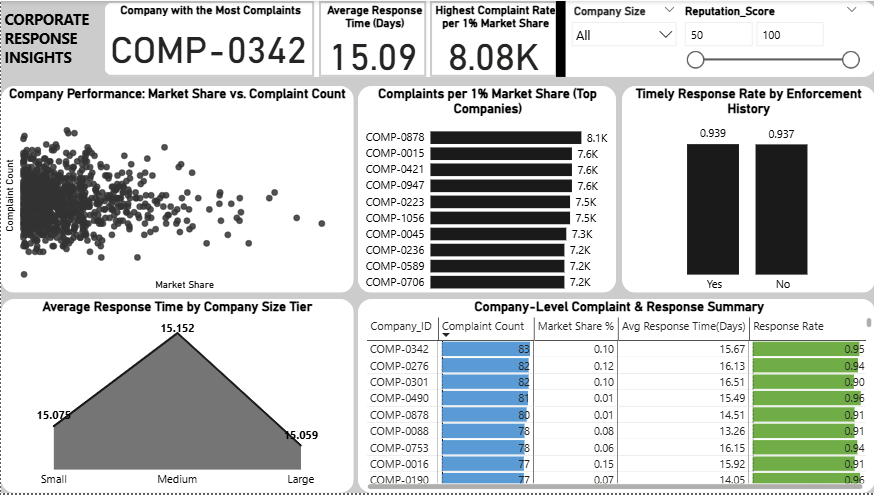

The dashboard page shown, as its layout file describes it:
{"tool":"powerbi","page":{"name":"Company Performance & Accountability","canvas":[1280,720],"ordinal":2},"visuals":[{"type":"shape","box":[0,0,1280,720.6],"z":0},{"type":"shape","box":[0,124.8,516.1,302.5],"z":1000},{"type":"shape","box":[0,435.8,516.1,283.7],"z":2000},{"type":"shape","box":[522.9,124.8,377.7,302.5],"z":3000},{"type":"shape","box":[909.2,124.8,370.8,302.5],"z":4000},{"type":"shape","box":[522.9,435.8,757.1,283.7],"z":5000},{"type":"shape","box":[148.7,0,1131.3,111.1],"z":6000},{"type":"card","title":"Company with the Most Complaints","fields":{"Values":["Company.Company Highest Complaints"]},"box":[148.7,0,309.3,111.1],"z":7000},{"type":"card","title":"Average Response Time (Days)","fields":{"Values":["Company.Avg Response Days"]},"box":[464.8,0,157.2,111.1],"z":8000},{"type":"card","title":"Highest Complaint Rate per 1% Market Share","fields":{"Values":["Company.Highest Complaint Rate"]},"box":[627.2,0,186.3,111.1],"z":9000},{"type":"scatterChart","title":"Company Performance: Market Share vs. Complaint Count","fields":{"X":["Company.Market_Share_Percent"],"Y":["Company.Complaint_Count"]},"box":[0,124.4,516.6,302.9],"z":10000},{"type":"clusteredBarChart","title":"Complaints per 1% Market Share (Top Companies)","fields":{"Y":["Avg(Company.Complaints_per_1pct_Share)"],"Category":["Company.Company_ID_1081"]},"box":[522.9,124.8,379.4,311],"z":11000},{"type":"areaChart","title":"Average Response Time by Company Size Tier","fields":{"Category":["Company.Company_Size_Tier"],"Y":["Avg(Company.Avg_Response_Time_Days)"]},"box":[0,435.8,516.1,283.7],"z":12000},{"type":"columnChart","title":"Timely Response Rate by Enforcement History","fields":{"Category":["Company.Enforcement_History"],"Y":["Avg(Company.Timely_Response_Rate)"]},"box":[909.2,124.8,370.8,311],"z":13000},{"type":"tableEx","title":"Company-Level Complaint & Response Summary","fields":{"Values":["Company.Company_ID_1081","Company.Complaint_Count","Company.Market_Share_Percent","Company.Avg_Response_Time_Days","Company.Timely_Response_Rate"]},"box":[529.8,435.8,750.2,283.7],"z":14000},{"type":"shape","box":[811.7,0,13.7,111.1],"z":15000},{"type":"slicer","fields":{"Values":["Company.Company_Size_Tier"]},"box":[825.4,0,172.6,111.1],"z":16000},{"type":"slicer","fields":{"Values":["Company.Reputation_Score"]},"box":[987.8,0,276.8,160.6],"z":17000},{"type":"textbox","box":[0,6.8,164.1,111.1],"z":18000}]}

Visuals, with their boxes in screenshot pixels (x1, y1, x2, y2), scaled from the page's 1280x720 canvas onto the 874x495 screenshot:
shape: 0,0,873,494
shape: 0,86,352,294
shape: 0,300,352,494
shape: 357,86,615,294
shape: 621,86,873,294
shape: 357,300,873,494
shape: 102,0,873,76
"Company with the Most Complaints" card: 102,0,313,76
"Average Response Time (Days)" card: 317,0,425,76
"Highest Complaint Rate per 1% Market Share" card: 428,0,555,76
"Company Performance: Market Share vs. Complaint Count" scatterChart: 0,86,353,294
"Complaints per 1% Market Share (Top Companies)" clusteredBarChart: 357,86,616,300
"Average Response Time by Company Size Tier" areaChart: 0,300,352,494
"Timely Response Rate by Enforcement History" columnChart: 621,86,873,300
"Company-Level Complaint & Response Summary" tableEx: 362,300,873,494
shape: 554,0,564,76
slicer - Company.Company_Size_Tier: 564,0,681,76
slicer - Company.Reputation_Score: 674,0,863,110
textbox: 0,5,112,81
